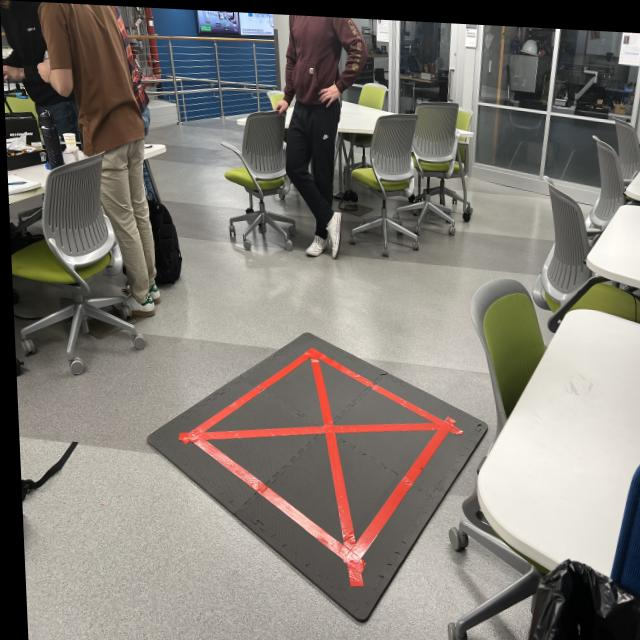landingPads: (143, 322, 492, 625)
